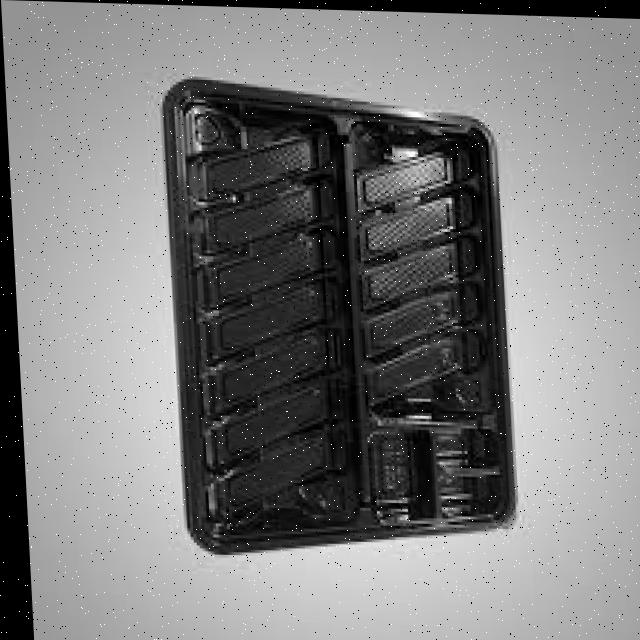disposable: (133, 64, 534, 586)
